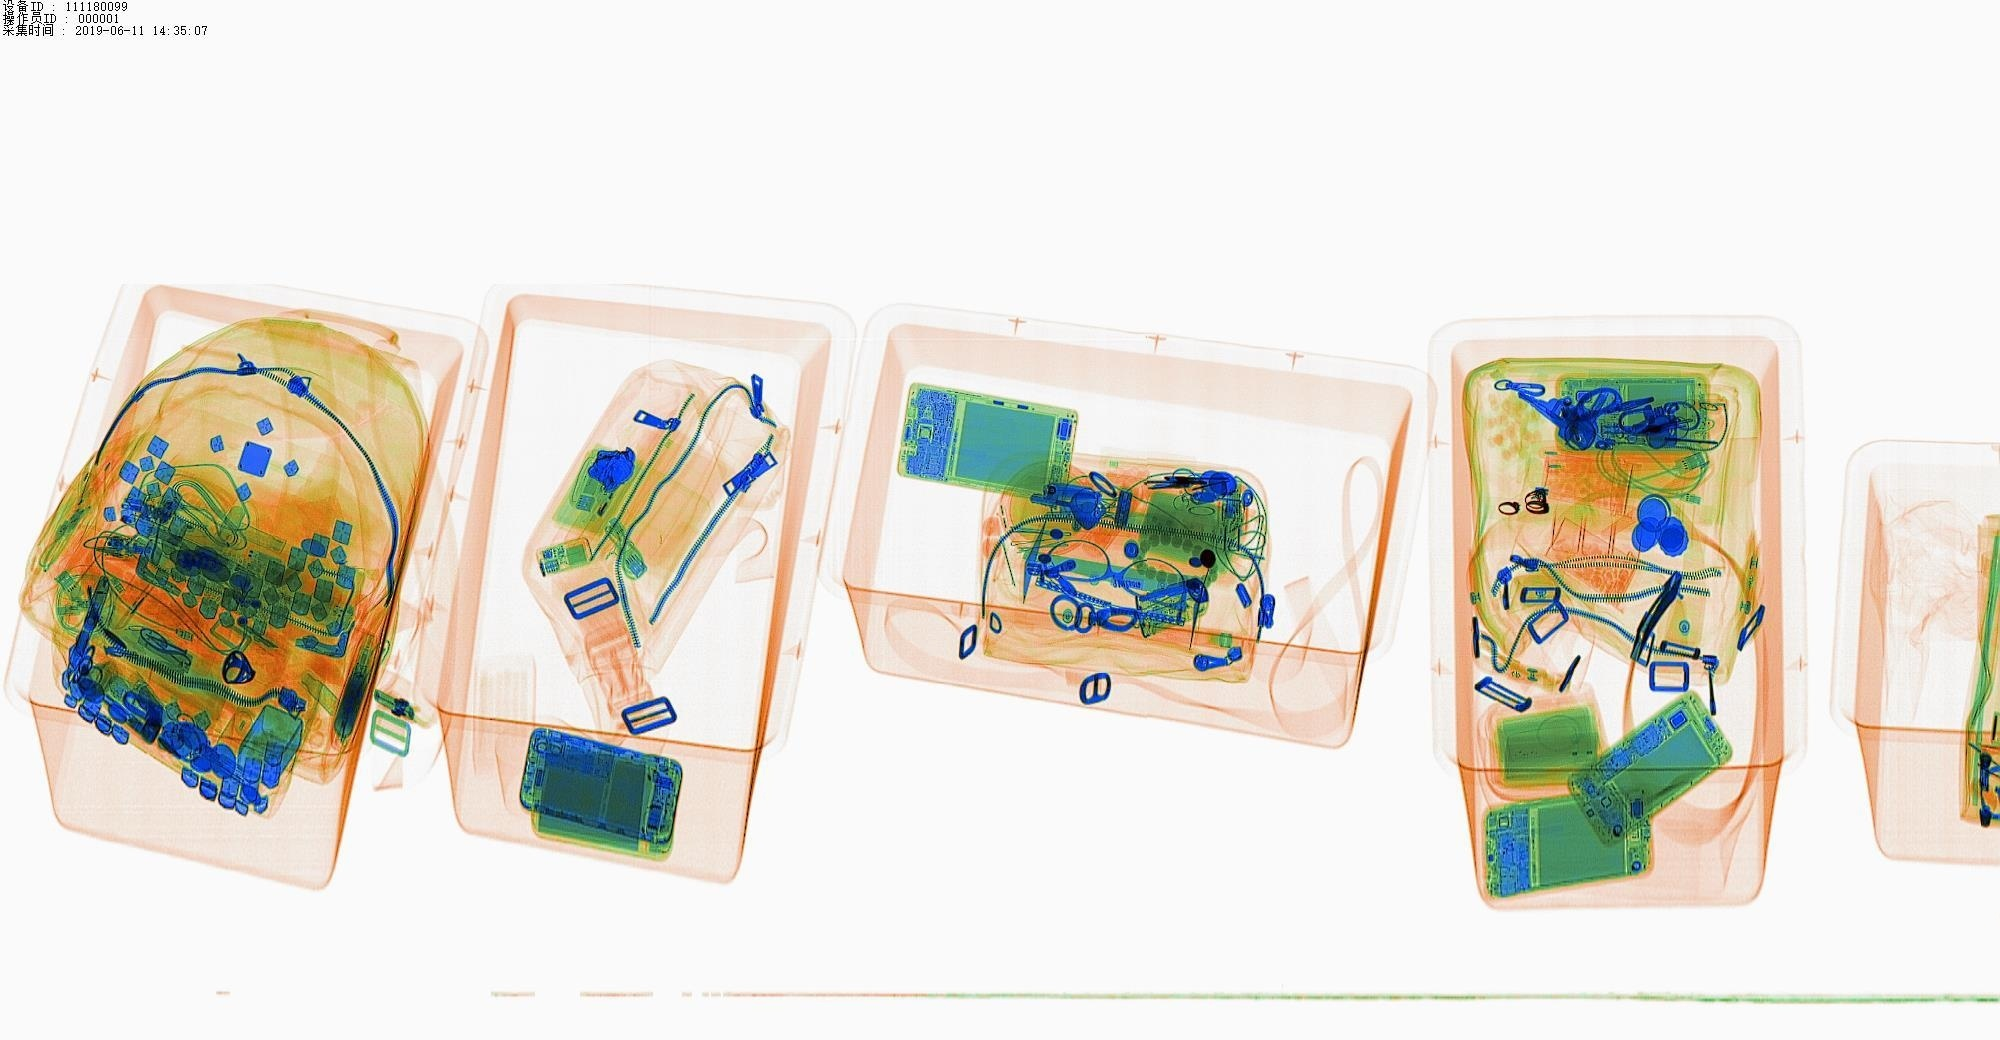NonmetallicFire: (563, 456, 646, 574)
